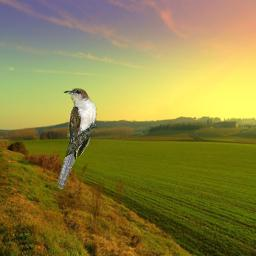Cuckoo: (57, 88, 97, 189)
